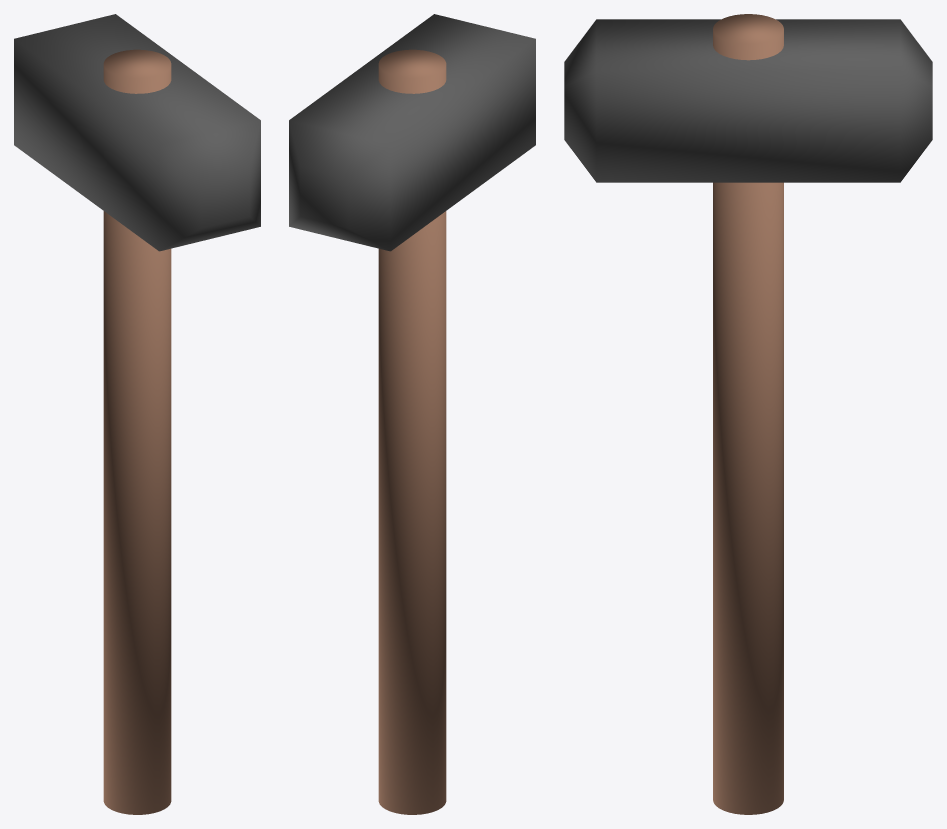
File: Hammer.fbx
The picture shows the model from 3 angles, left to right: view 1: azimuth 30°, elevation 25°; view 2: azimuth 150°, elevation 25°; view 3: azimuth 270°, elevation 25°; orthographic projection. The views are drawn at different scales.
Parts seen in each view (by area): view 1: Hammer; view 2: Hammer; view 3: Hammer.
Part boxes in pixels (<box>): Hammer: <box>14,14,260,814</box>; Hammer: <box>289,14,535,814</box>; Hammer: <box>564,14,932,814</box>.
Bounding box in the file's own units: 200 × 1385 × 600.
